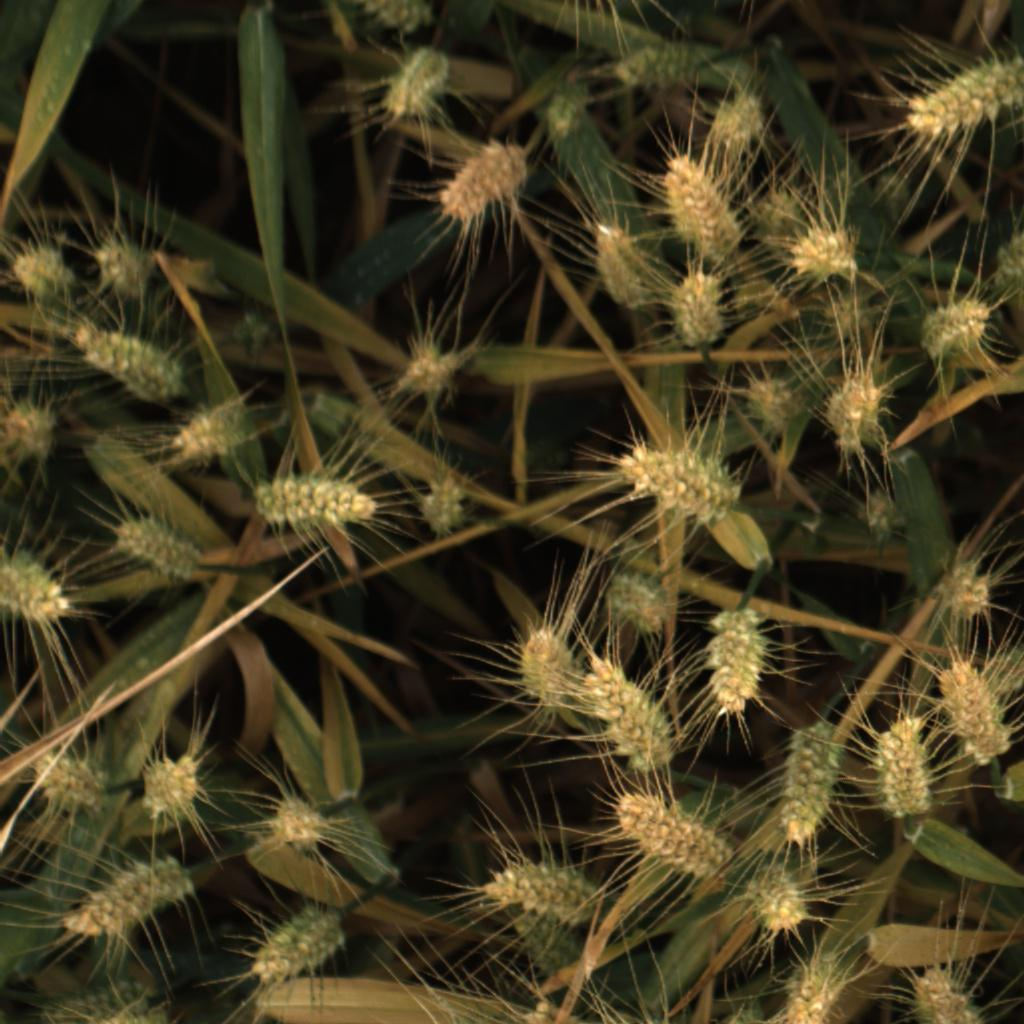0-0: (654, 149, 798, 327), (900, 44, 1024, 149), (64, 844, 194, 944), (610, 431, 748, 524), (579, 646, 679, 770), (73, 311, 195, 407), (610, 791, 736, 879), (774, 716, 849, 850), (932, 652, 1014, 771), (251, 464, 383, 537), (477, 853, 606, 924), (698, 603, 774, 720), (249, 895, 344, 986), (442, 136, 533, 230), (871, 711, 938, 828), (109, 509, 205, 589), (376, 35, 462, 122), (583, 215, 655, 312), (818, 369, 894, 460), (21, 745, 109, 823), (3, 538, 79, 626), (912, 296, 994, 375), (171, 392, 249, 473), (509, 621, 578, 712), (739, 862, 814, 940), (665, 270, 732, 356), (899, 960, 988, 1024), (137, 747, 210, 823), (505, 906, 587, 973), (778, 219, 863, 282), (613, 35, 699, 95), (928, 557, 998, 627), (778, 952, 846, 1024), (13, 233, 77, 309), (538, 76, 600, 154), (2, 395, 64, 473), (88, 233, 156, 303), (601, 566, 673, 632), (739, 371, 806, 440), (416, 467, 474, 544), (38, 988, 162, 1024), (264, 791, 327, 860), (709, 86, 773, 152), (401, 340, 462, 405), (351, 0, 436, 44), (815, 288, 882, 342), (752, 185, 809, 244), (857, 487, 903, 541), (235, 306, 271, 360), (1001, 232, 1024, 277)
